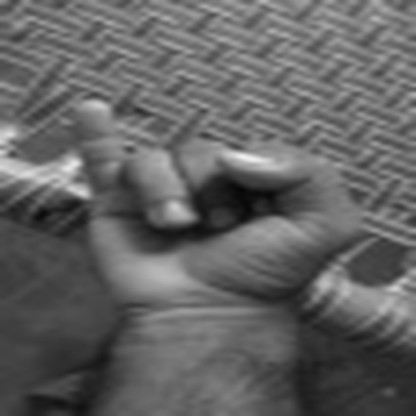i: (62, 88, 363, 319)
